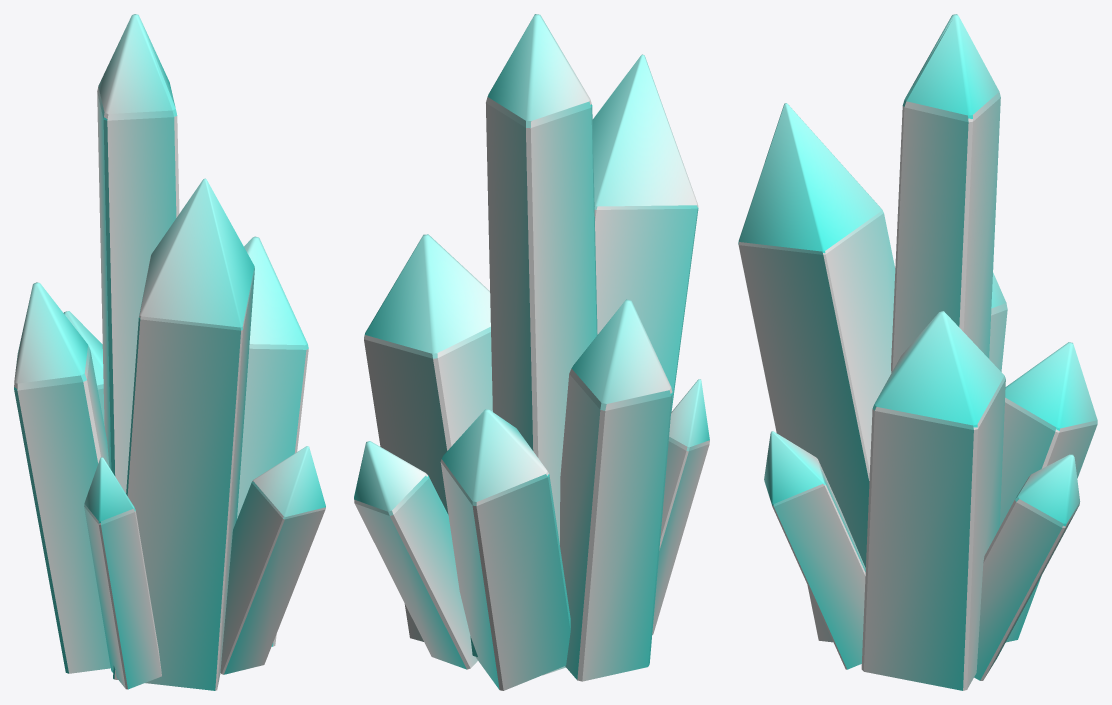
File: crystal.fbx
3 views of the same model, side by side, from view 1: azimuth 30°, elevation 25°; view 2: azimuth 150°, elevation 25°; view 3: azimuth 270°, elevation 25° (orthographic). The views are drawn at different scales.
Visible parts, largest first — view 1: CrystalCrack; view 2: CrystalCrack; view 3: CrystalCrack.
Part boxes in pixels (x1,y1,x2,y2): CrystalCrack: [14, 14, 325, 690]; CrystalCrack: [354, 14, 709, 690]; CrystalCrack: [738, 14, 1097, 690].
Bounding box in the file's own units: 23.69 × 50.45 × 26.36.
Materials: 2 (1 with a texture image).
